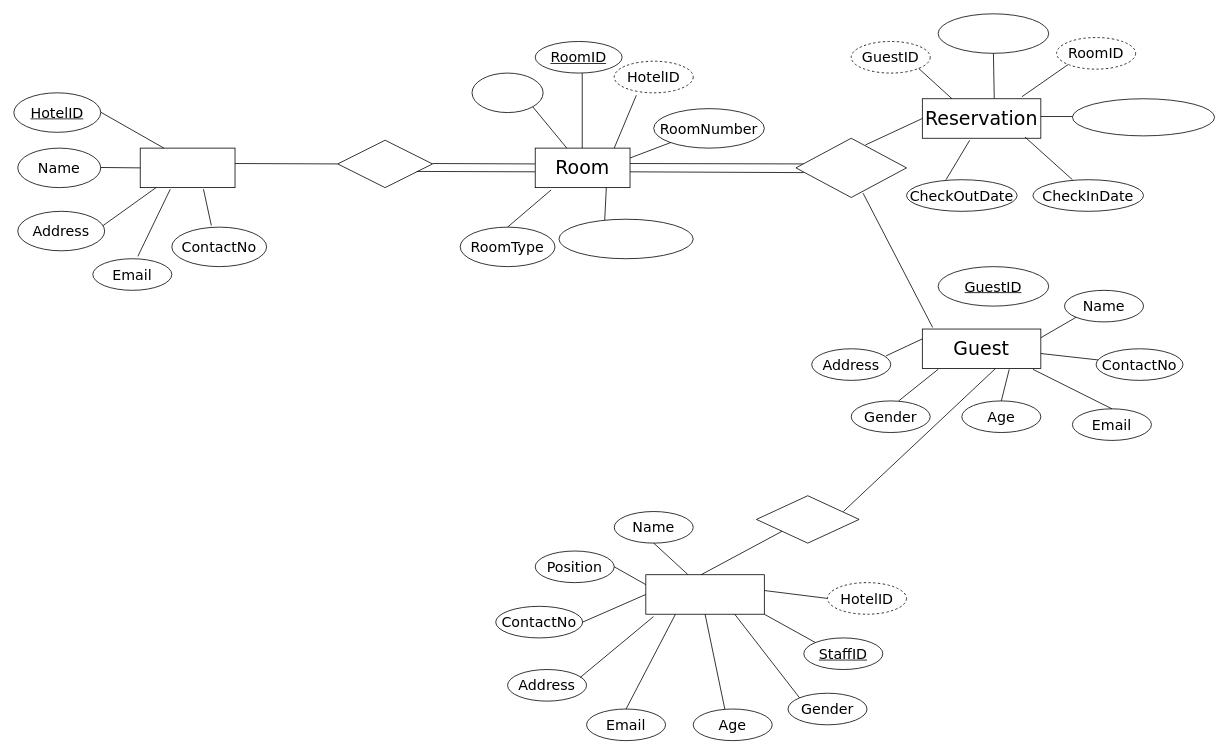
Image size: 1228x754. Some labels were removed from this diagram. Here are the shapes that lost their labels. From the top down, the box of each, then its label:
(937, 13, 1049, 53): ReservationID
(471, 72, 543, 113): Price
(1072, 98, 1215, 136): ReservationStatus
(139, 147, 235, 188): Hotel
(337, 139, 433, 188): Has
(795, 137, 907, 198): Reserve
(558, 218, 693, 259): AvailabilityStatus
(756, 495, 859, 543): Serves
(645, 574, 764, 614): Staff
